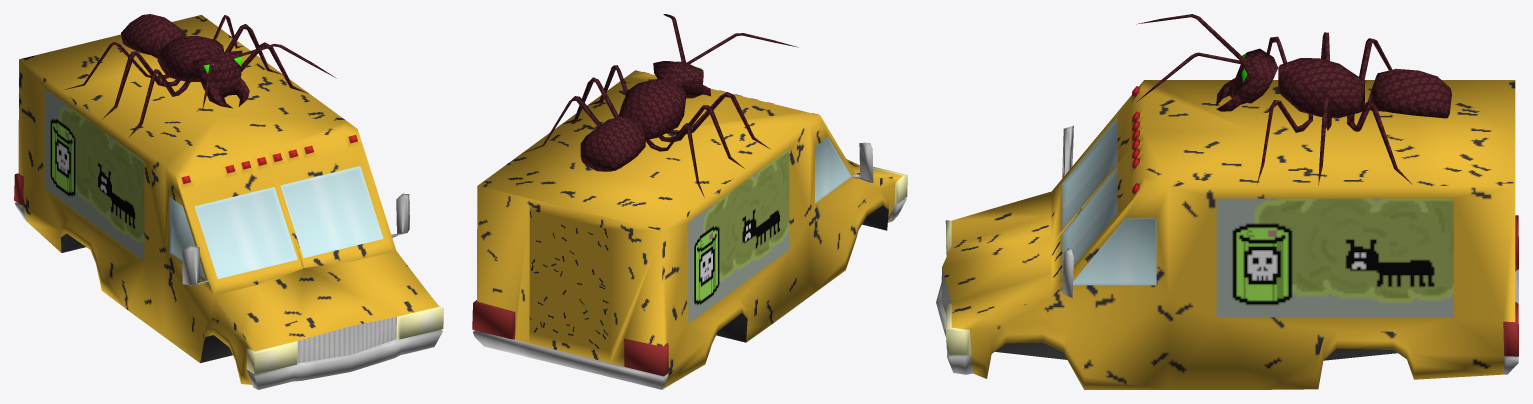
File: Fumigator new.fbx
3 renders of one model, left to right at view 1: azimuth 30°, elevation 25°; view 2: azimuth 150°, elevation 25°; view 3: azimuth 270°, elevation 25°, orthographic. The views are drawn at different scales.
Parts seen in each view (by area): view 1: El Camino.003; view 2: El Camino.003; view 3: El Camino.003.
Part boxes in pixels (box(x1,y1,x2,y2)): El Camino.003: box(14, 14, 443, 389); El Camino.003: box(472, 14, 907, 389); El Camino.003: box(936, 14, 1518, 389).
Bounding box in the file's own units: 3.5 × 3.73 × 6.53.
